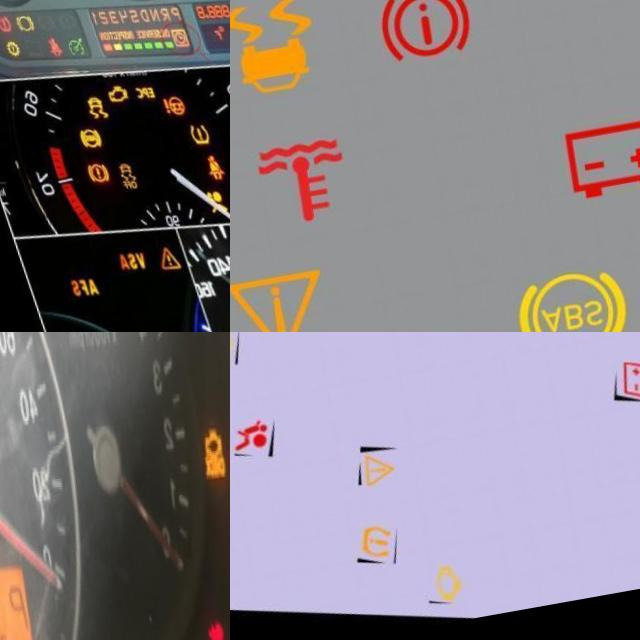Electronic Power Steering: (157, 102, 183, 127)
Seat Belt: (198, 163, 218, 190), (44, 40, 62, 62)
